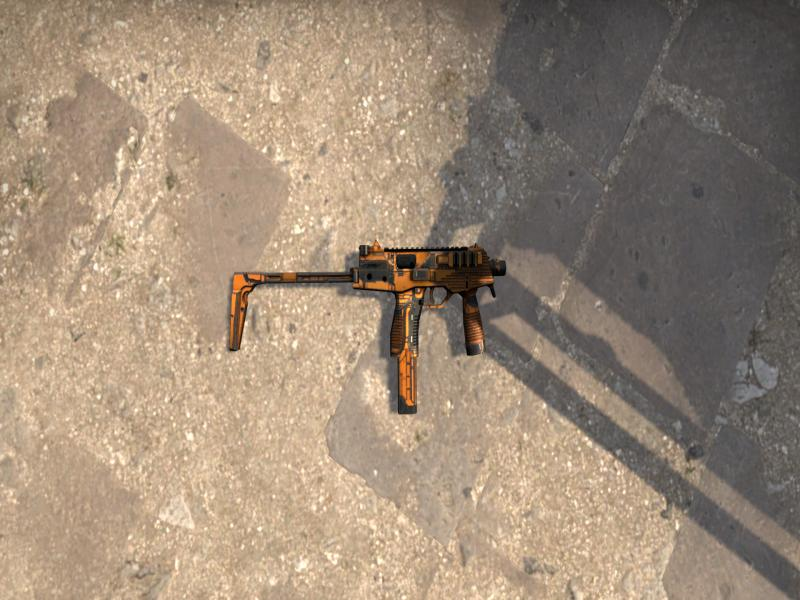MP9: (230, 241, 507, 414)
